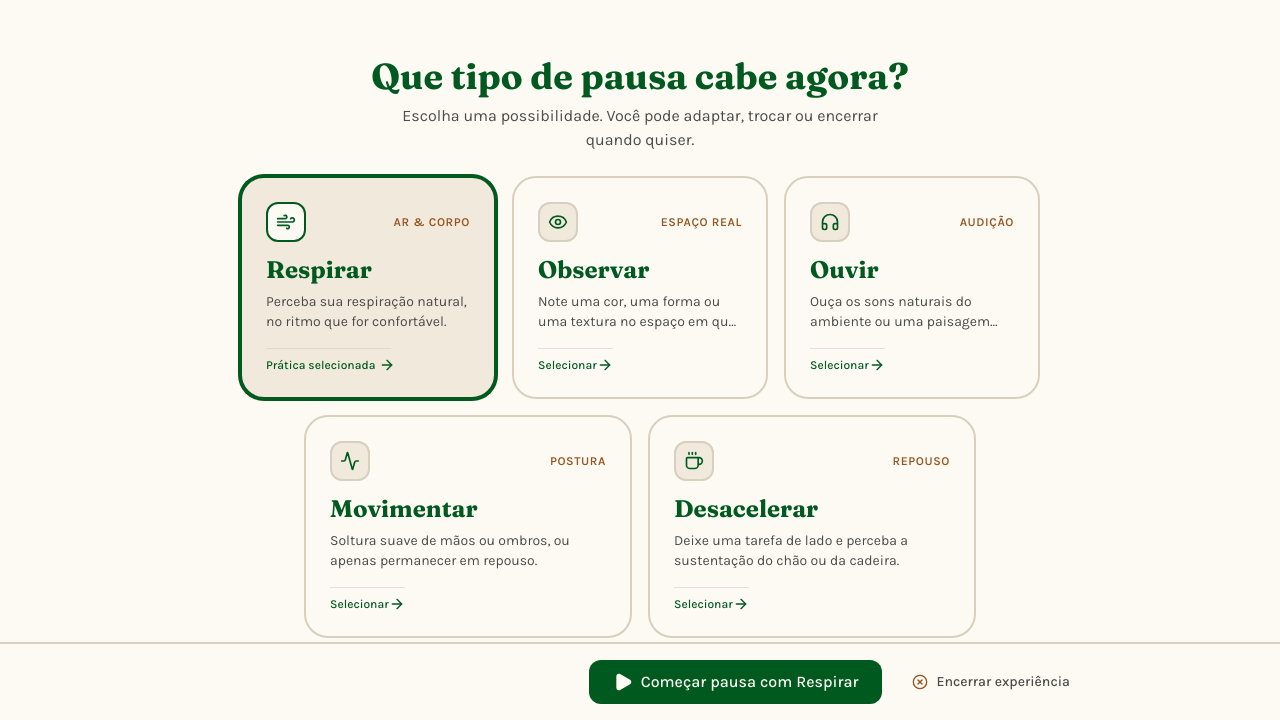
Test case: SalaDePausaApp › offers a complete pause flow with practice selection and back action
Click the button "Observar" at (640, 288), box x1=512 y1=176 x2=768 y2=399
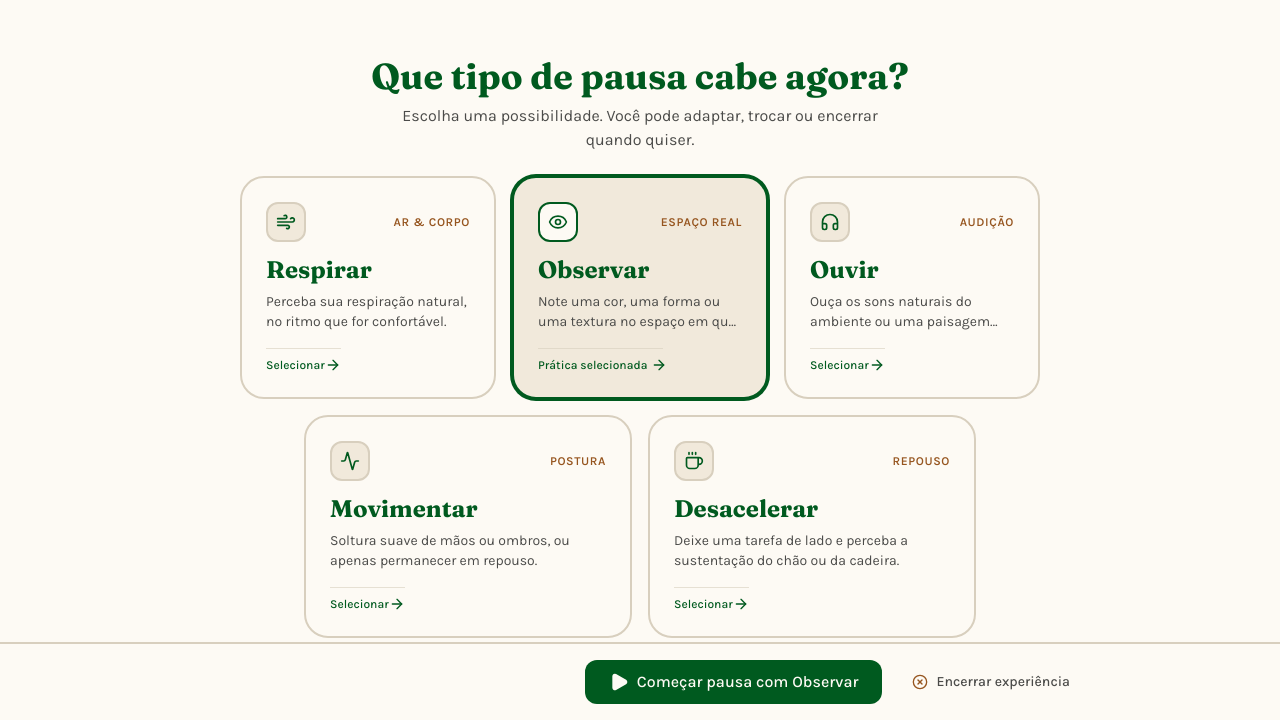
Click the button "Começar pausa com Observar" at (734, 682), box x1=585 y1=660 x2=882 y2=704
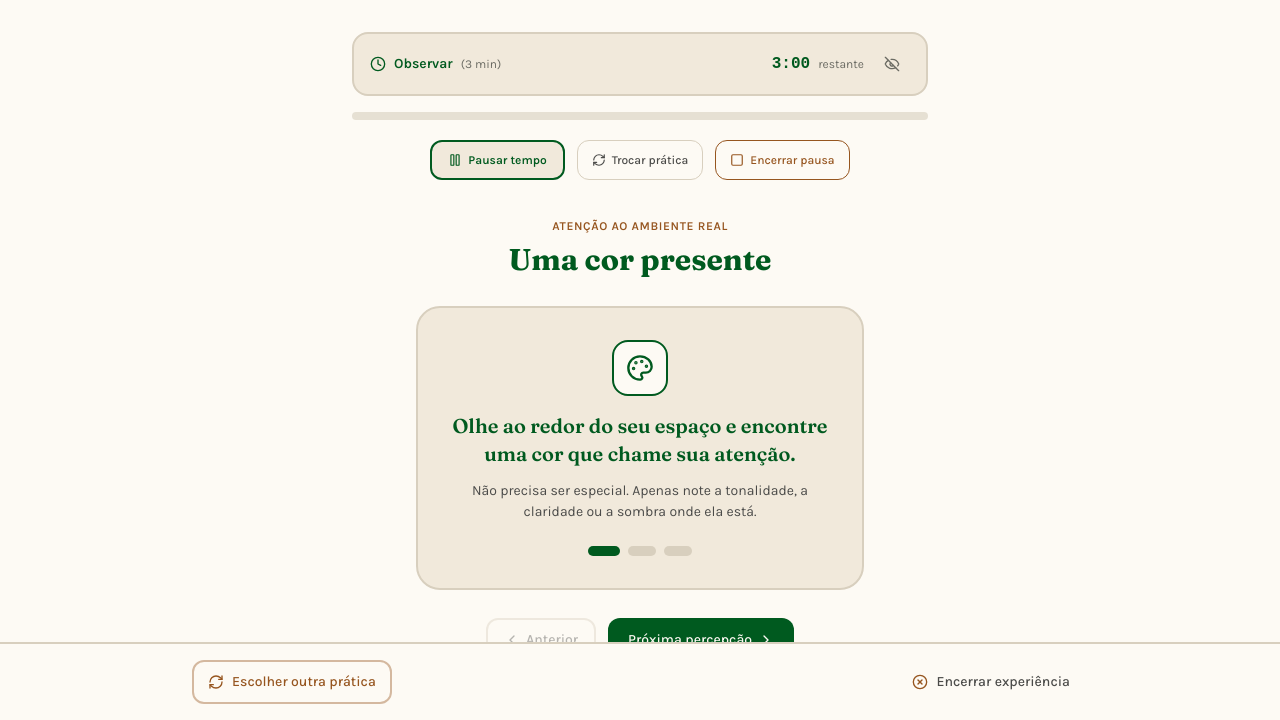
Now the button "Escolher outra prática" is shown
Click the button "Escolher outra prática" at (292, 682), box x1=192 y1=660 x2=392 y2=704
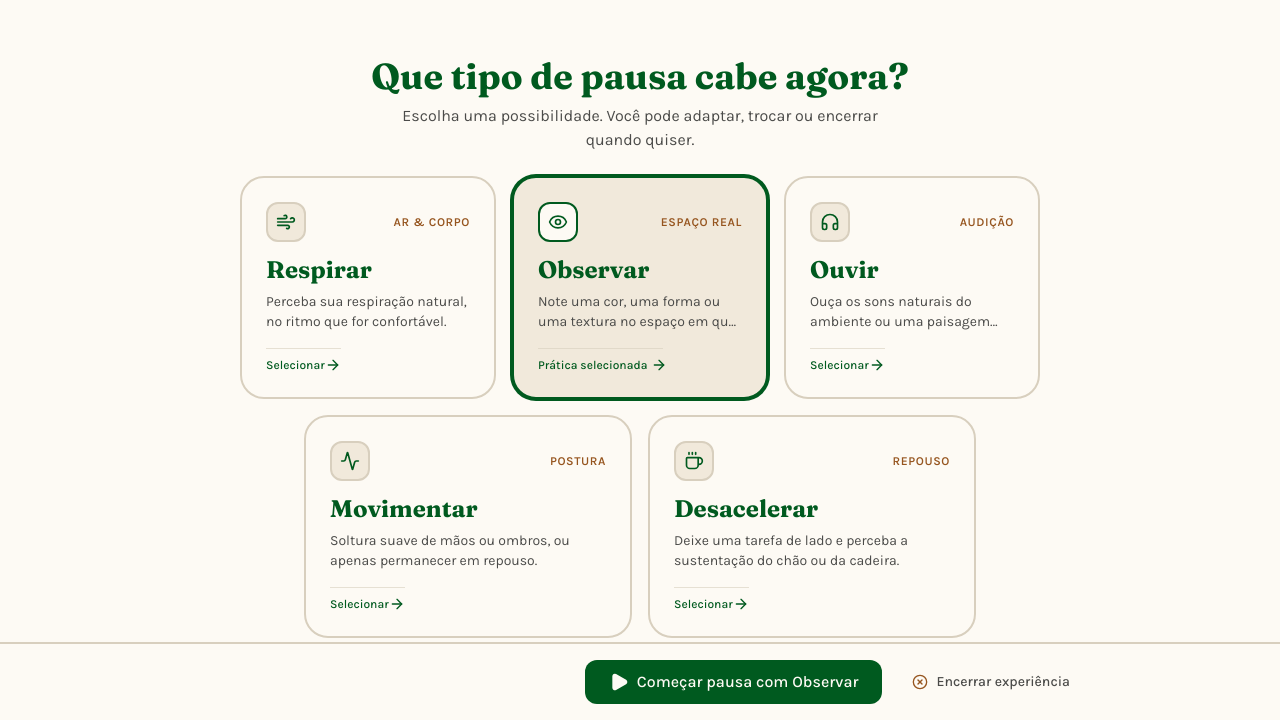
Now the button "Respirar" is shown, box x1=240 y1=176 x2=496 y2=399
